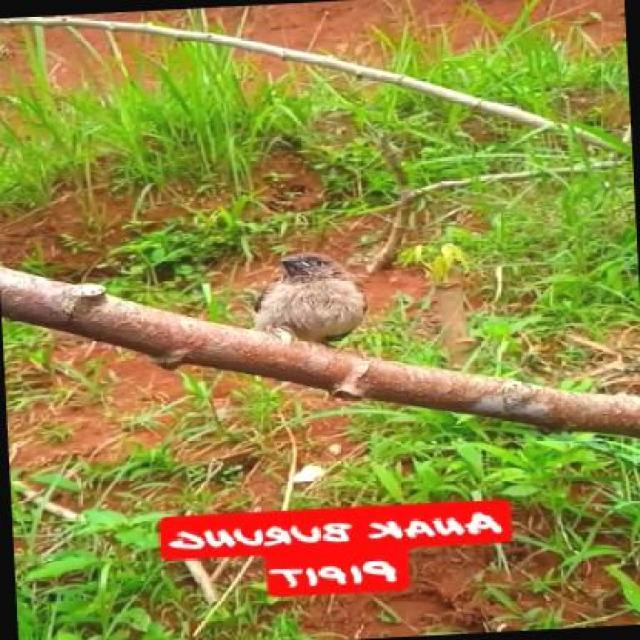Bird: (251, 244, 370, 350)
